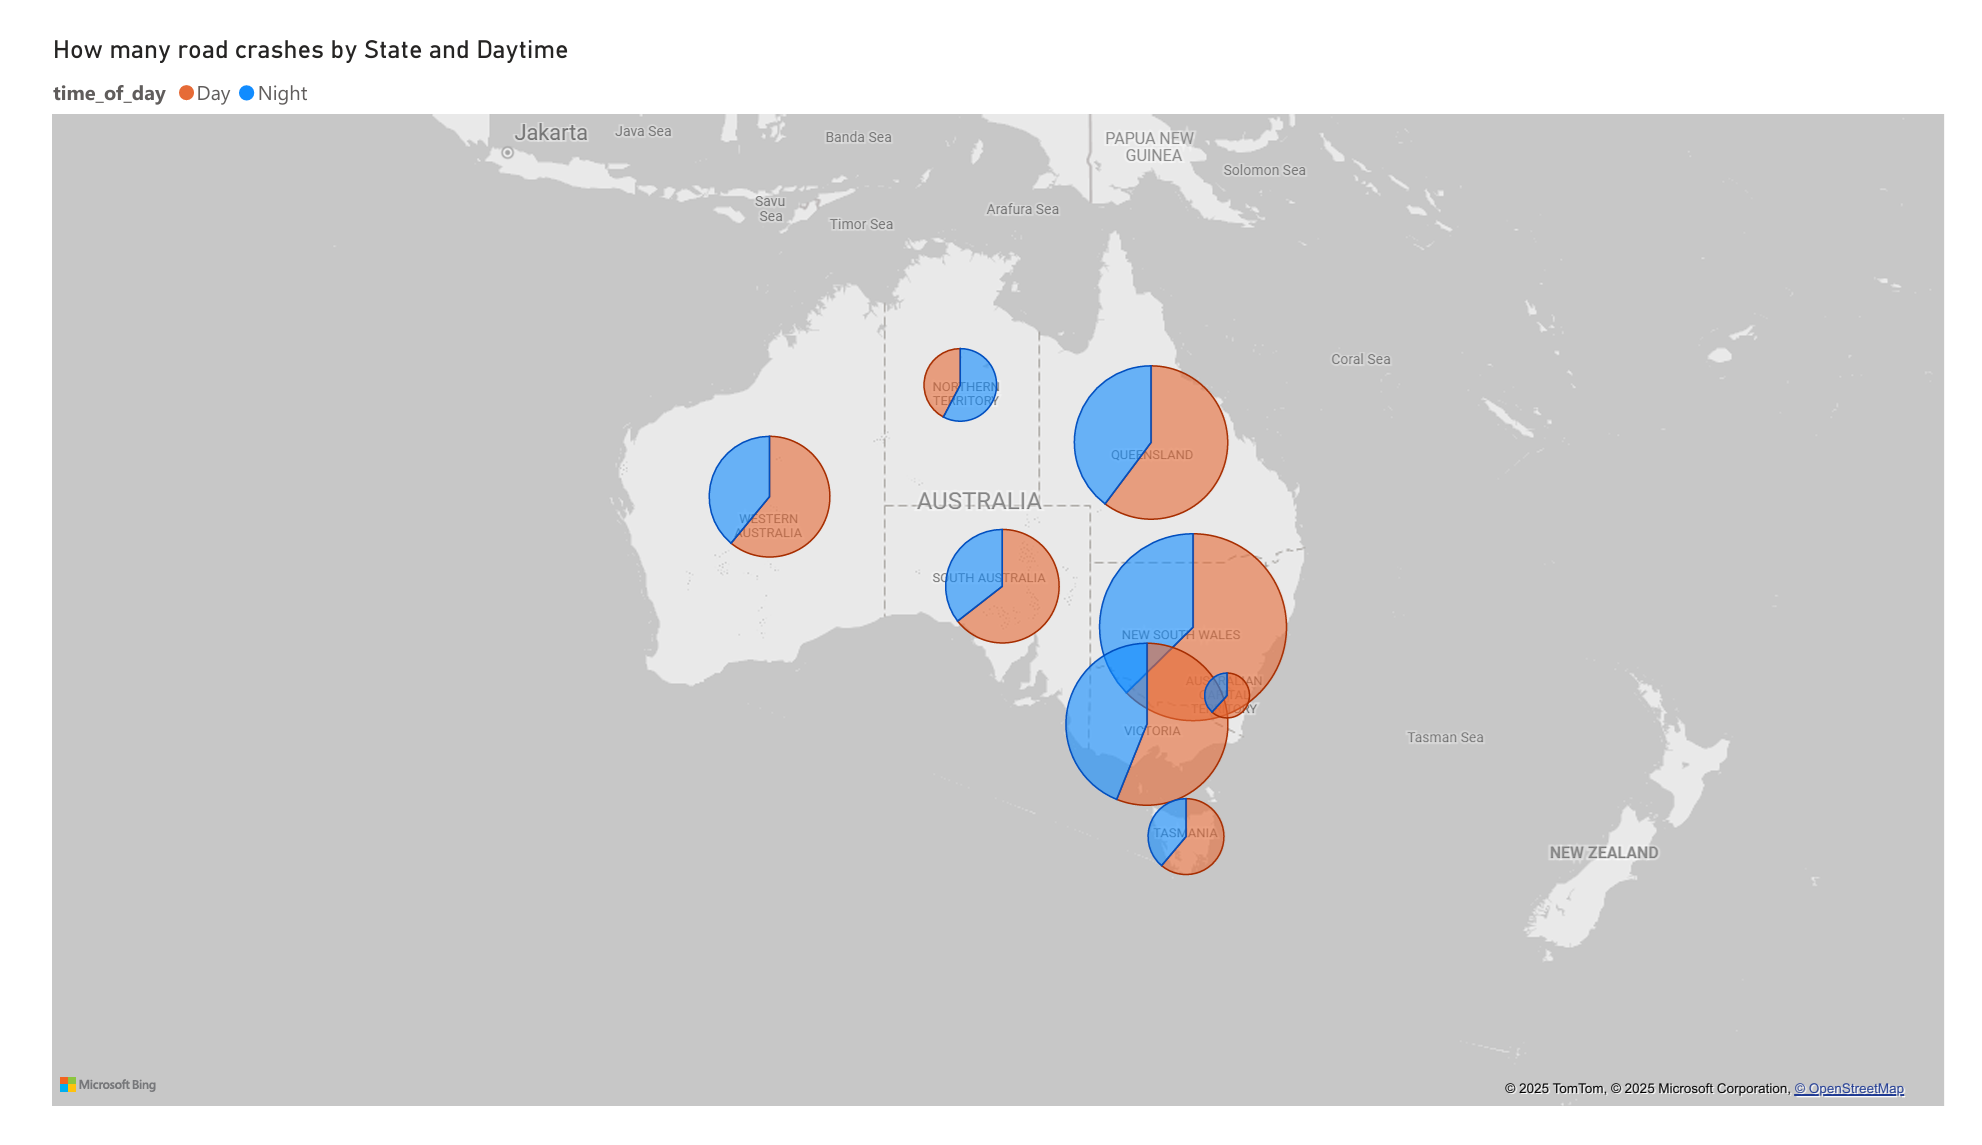

This screenshot's page, from the dashboard's own definition file:
{"tool":"powerbi","page":{"name":"Page 2","canvas":[1280,720],"ordinal":1},"visuals":[{"type":"map","fields":{"Category":["location_dim.FullState"],"Size":["Sum(fatalities_fact.crash_id)"],"Series":["daytime_dim.time_of_day"]},"box":[9.5,0,1270.4,720.4],"z":0}]}

Visuals, with their boxes in screenshot pixels (x1, y1, x2, y2), scaled from the page's 1280x720 canvas onto the 1982x1145 screenshot:
map - location_dim.FullState x Sum(fatalities_fact.crash_id): (15, 0, 1981, 1144)
